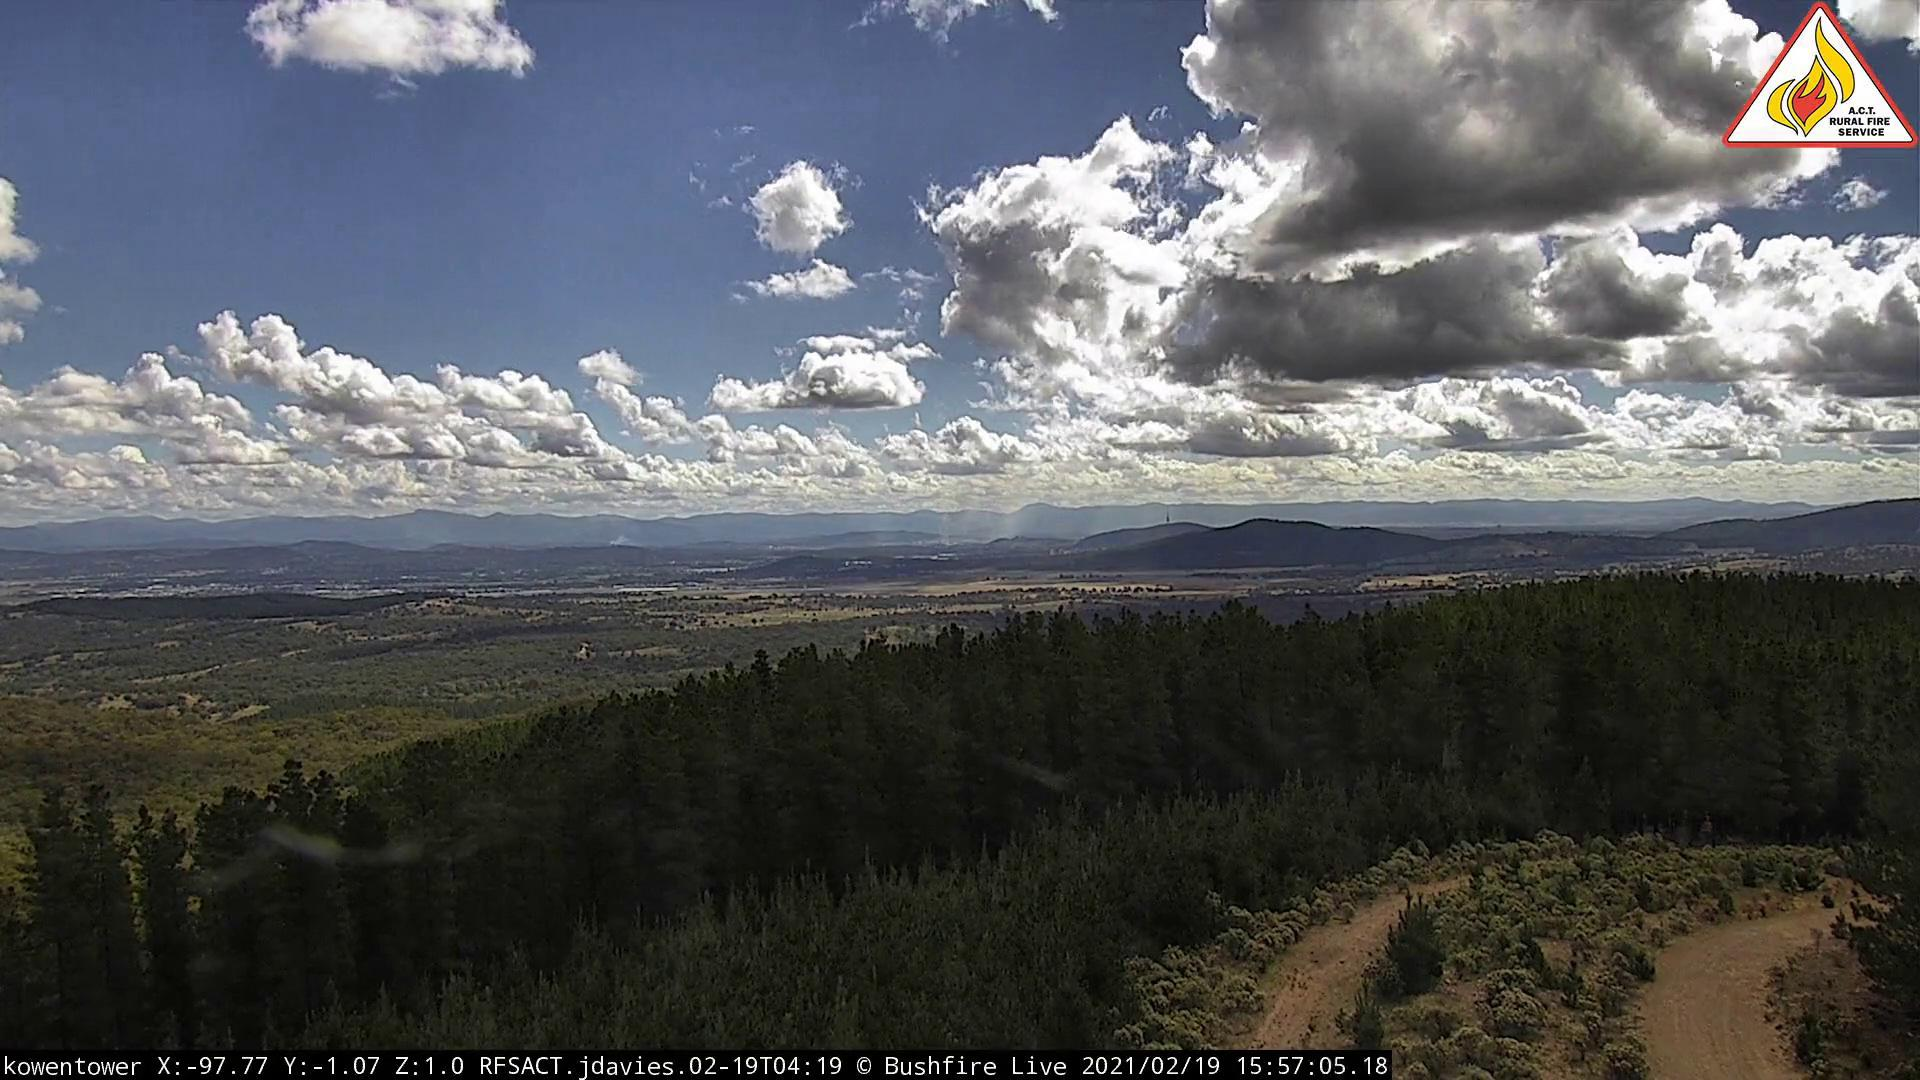Smoke: (936, 504, 1031, 551), (611, 534, 644, 554)
